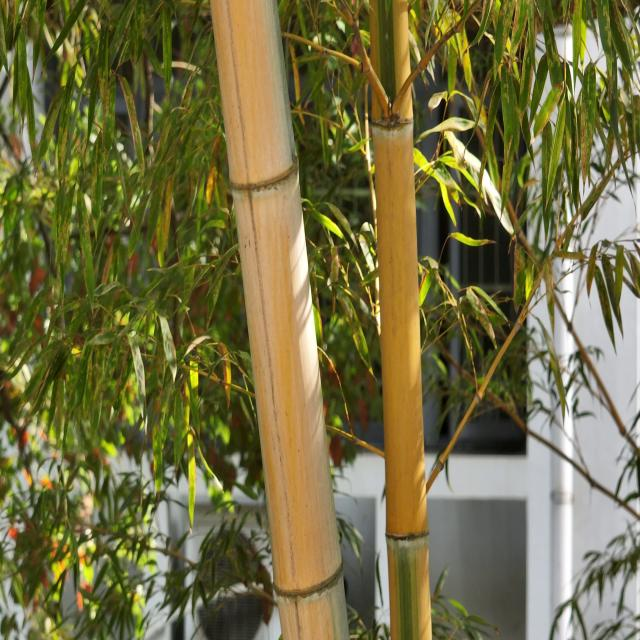Bamboo-shoots: (210, 0, 350, 640), (370, 0, 433, 640)
